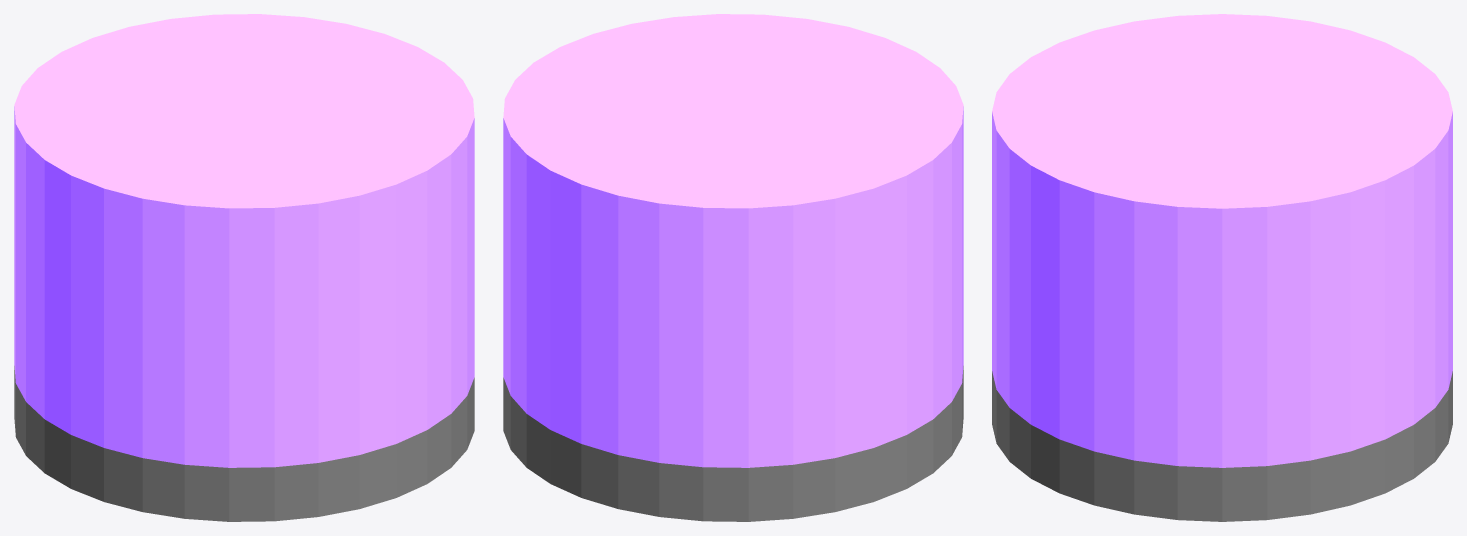
Rendered from lamp.glb.
The picture shows the model from 3 angles, left to right: view 1: azimuth 30°, elevation 25°; view 2: azimuth 150°, elevation 25°; view 3: azimuth 270°, elevation 25°; orthographic projection.
Parts seen in each view (by area): view 1: lamp; view 2: lamp; view 3: lamp.
Part boxes in pixels (bbox=[...]): lamp: bbox=[14, 14, 474, 521]; lamp: bbox=[503, 14, 963, 521]; lamp: bbox=[992, 14, 1452, 521].
Size of the model in its own units: 0.4 by 0.3 by 0.4.
